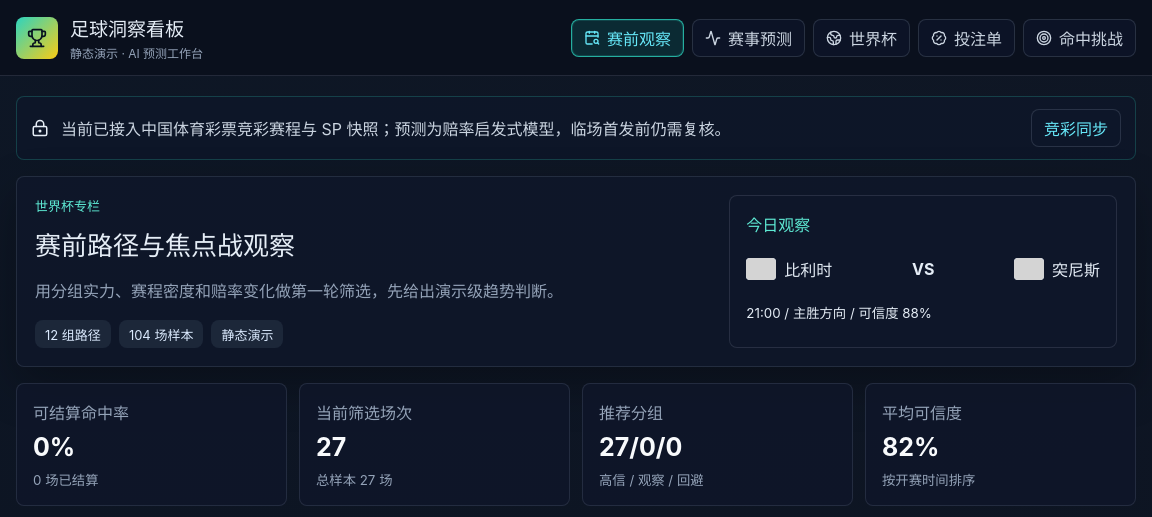
App › renders a fuller world cup desk
Click the button "世界杯" at [862, 38], box top-left (813, 18), bottom-right (910, 56)
(page scrolled)
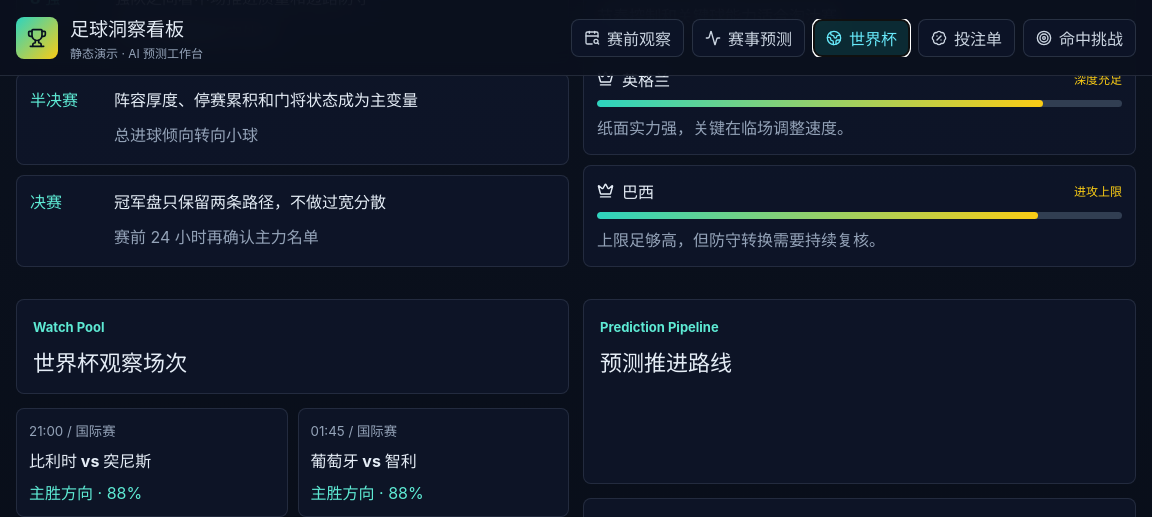
Expected: the heading "世界杯观察场次" is shown, top-left (33, 350), bottom-right (187, 376)
